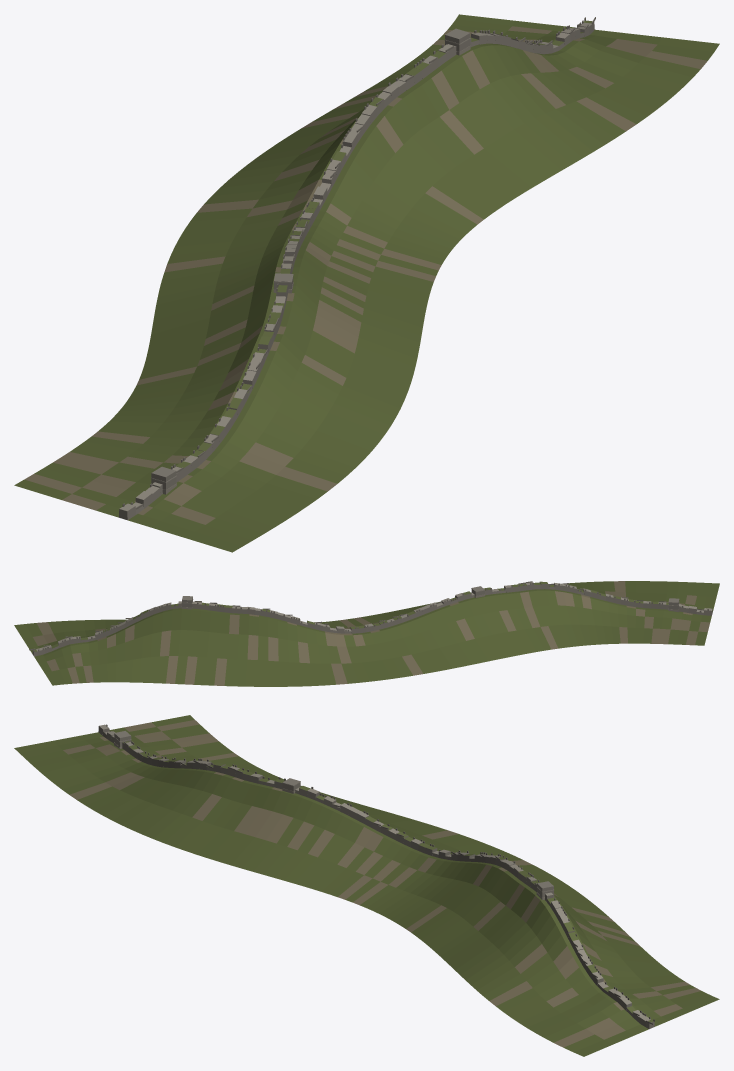
Rendered from great-wall-ruin.glb.
3 renders of one model, top to bottom at view 1: azimuth 30°, elevation 25°; view 2: azimuth 150°, elevation 25°; view 3: azimuth 270°, elevation 25°, orthographic. The views are drawn at different scales.
Visible parts, largest first — view 1: great-wall-ruin; view 2: great-wall-ruin; view 3: great-wall-ruin.
Boxes of the visible parts, x1,y1,x2,y2 form: great-wall-ruin: (14, 14, 719, 552); great-wall-ruin: (14, 581, 719, 686); great-wall-ruin: (14, 715, 719, 1056).
Bounding box in the file's own units: 672 × 65.5 × 586.
